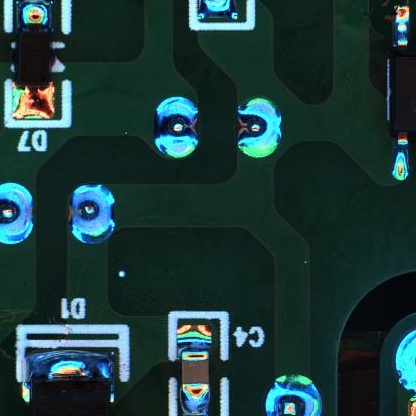spot: (68, 184, 114, 245), (155, 96, 200, 158), (265, 372, 324, 416), (238, 97, 281, 157), (1, 181, 32, 244)
